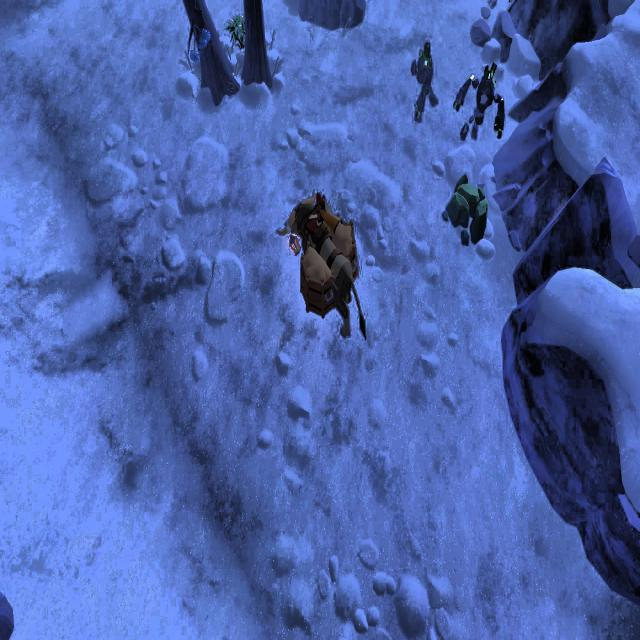fiber_t3: (227, 10, 249, 47)
rock_t3: (443, 170, 490, 248)
